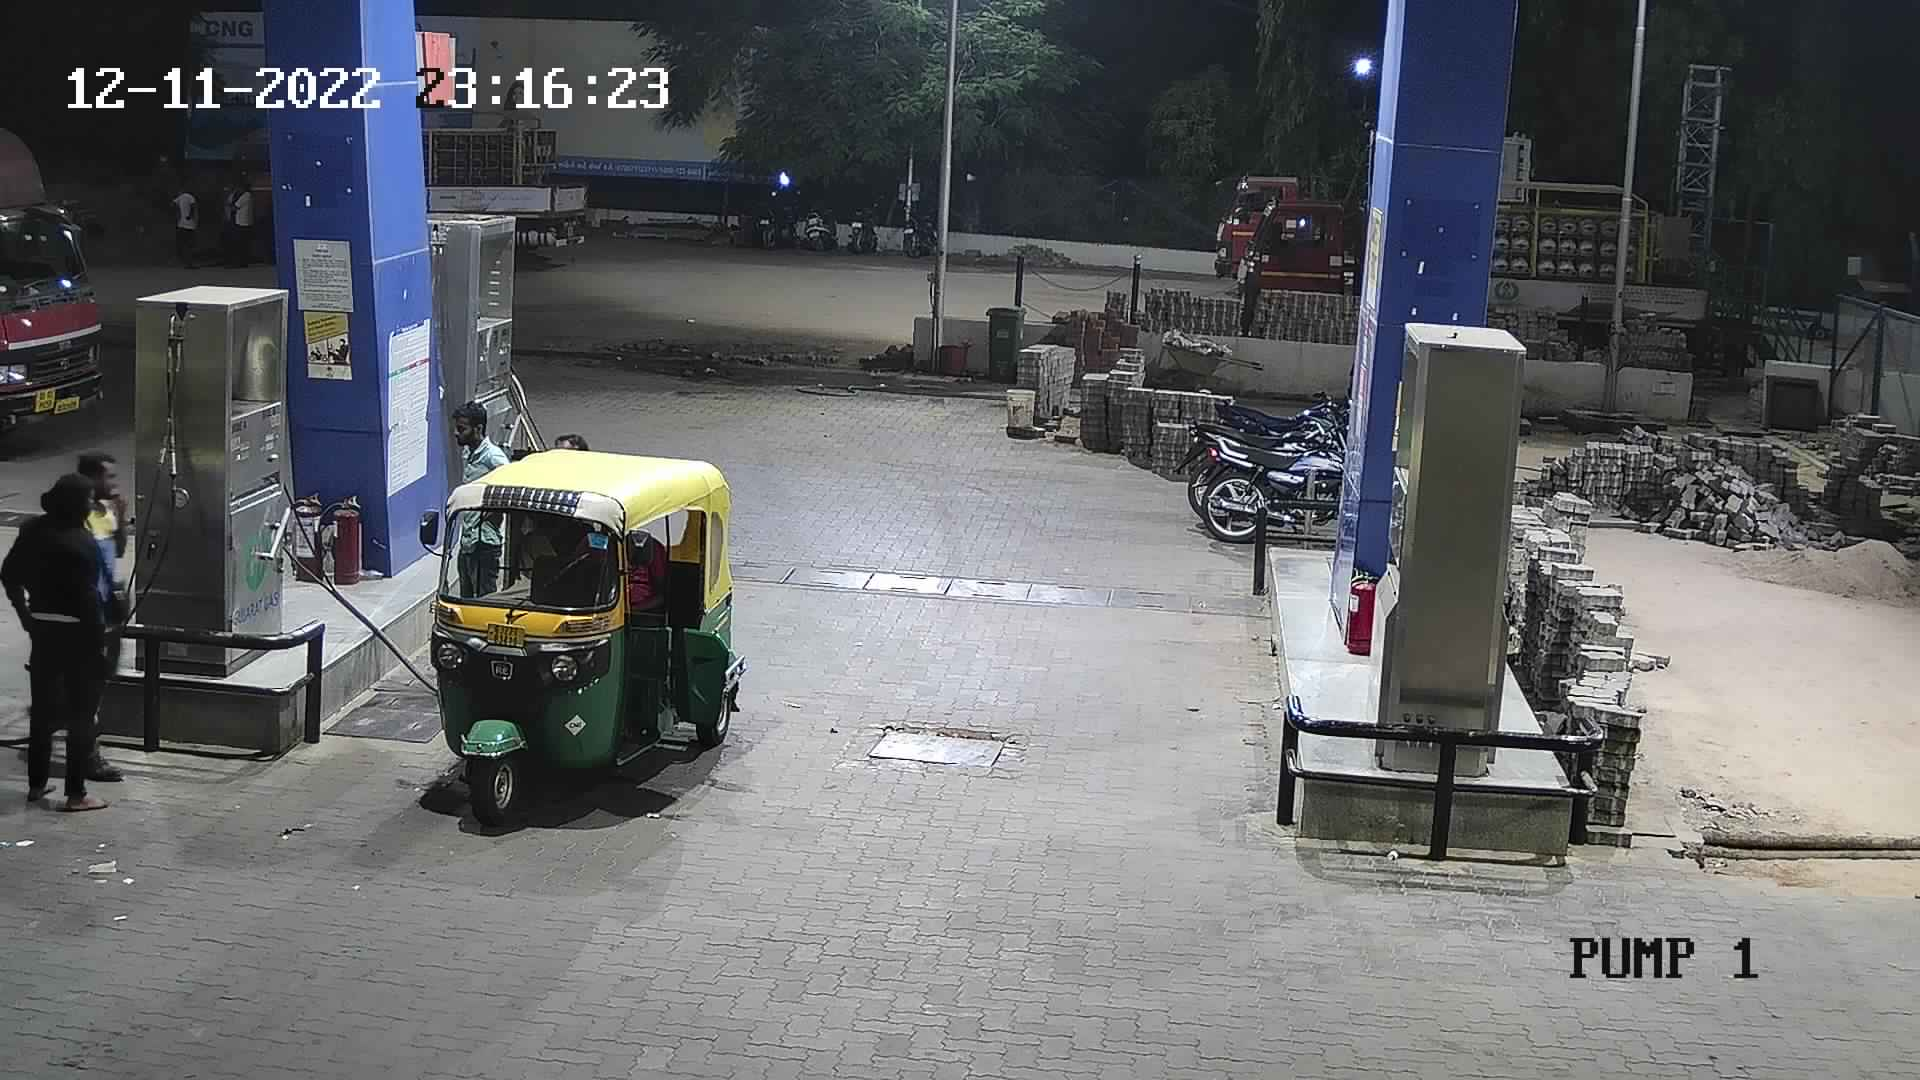Auto: (417, 434, 741, 814)
Bike: (1179, 394, 1350, 555), (741, 177, 800, 257), (837, 193, 891, 264), (793, 186, 843, 258), (895, 193, 945, 264)
HMV: (0, 84, 120, 459), (394, 73, 592, 274), (1203, 120, 1375, 291), (1226, 179, 1375, 339)
Others: (61, 448, 132, 793)
